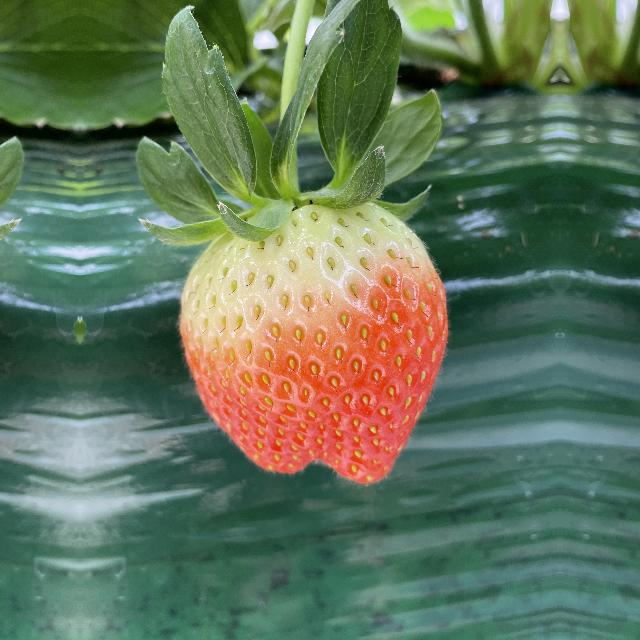Health_75: (177, 198, 451, 490)
